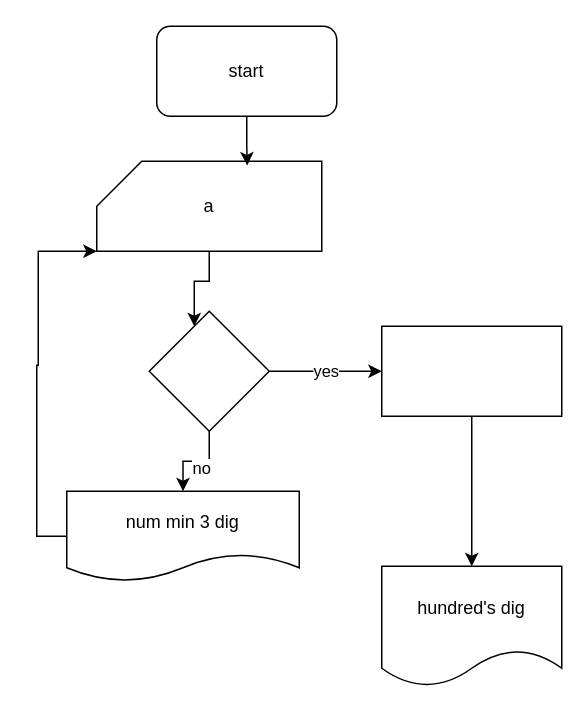
This 588x713 diagram has some shape labels left out. The centre of each missing label's shape, as x and y in pixels:
a/100: point (471, 370)
a>100: point (208, 370)
